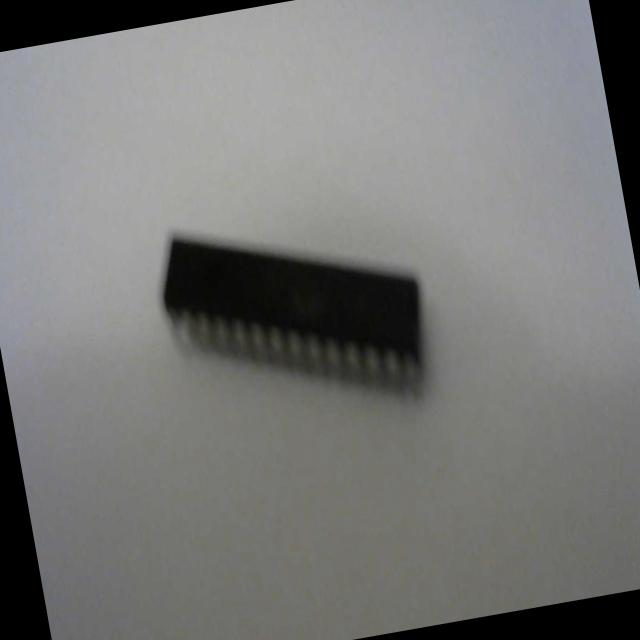atmega: (147, 186, 441, 442)
